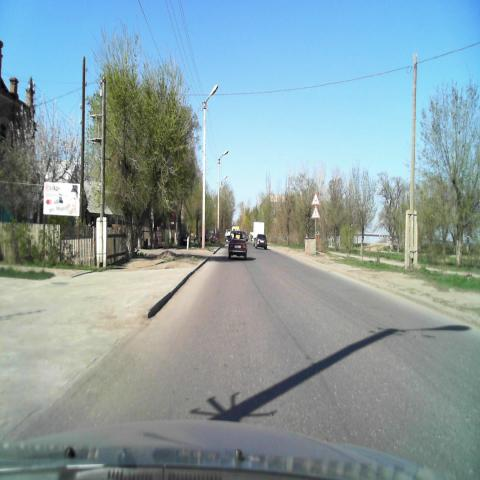1_12_2: (310, 190, 320, 204)
1_22: (311, 204, 320, 218)
